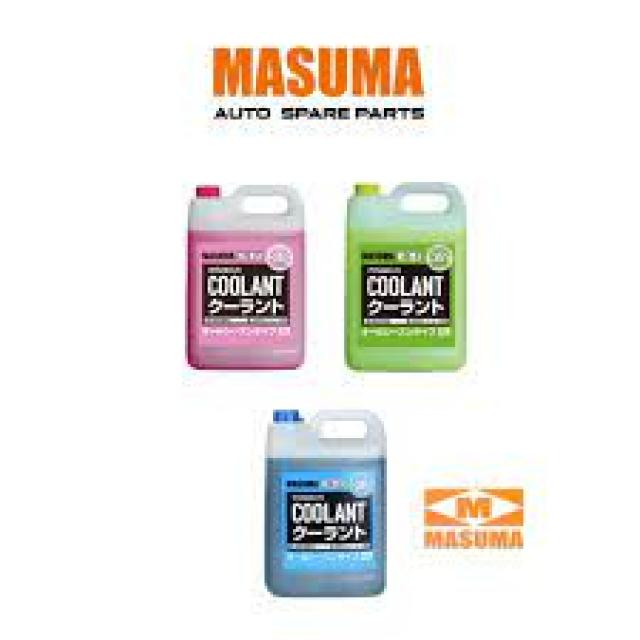coolant: (259, 408, 395, 605), (342, 175, 472, 380), (184, 178, 311, 376)
